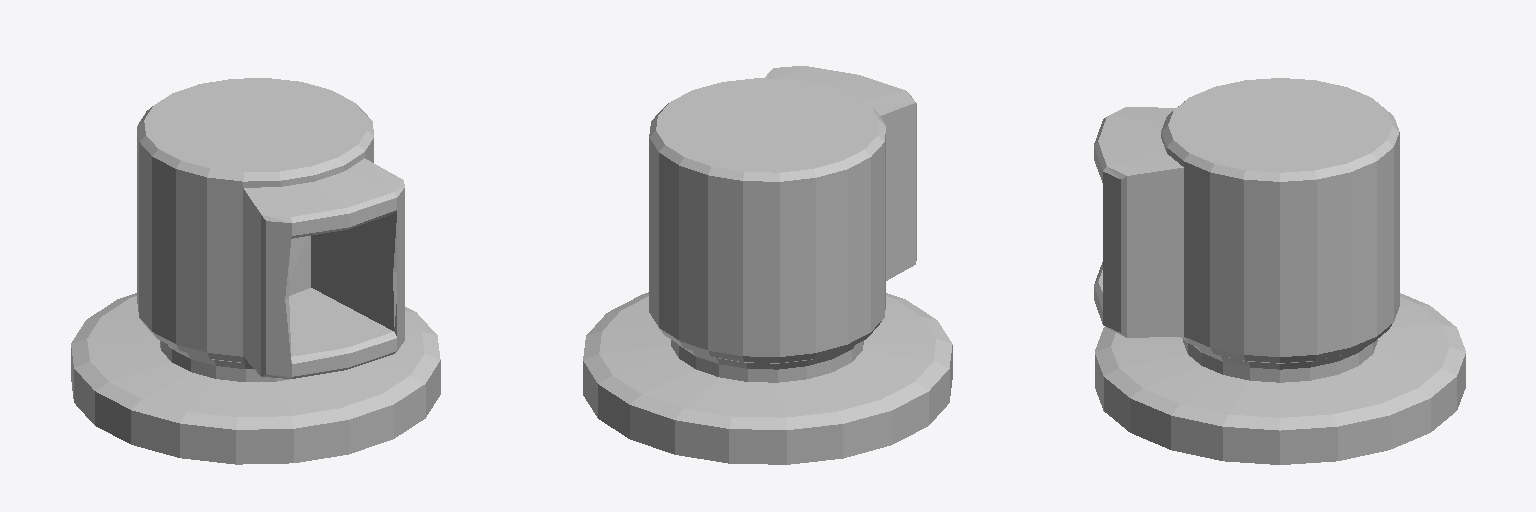
File: Turret.obj
The picture shows the model from 3 angles: view 1: azimuth 30°, elevation 25°; view 2: azimuth 150°, elevation 25°; view 3: azimuth 270°, elevation 25°; orthographic projection.
Parts seen in each view (by area): view 1: pCylinder1; view 2: pCylinder1; view 3: pCylinder1.
Part boxes in pixels (left/top/right/bottom): pCylinder1: left=71, top=78, right=440, bottom=464; pCylinder1: left=583, top=66, right=952, bottom=464; pCylinder1: left=1094, top=78, right=1465, bottom=464.
Size of the model in its own units: 2 by 1.55 by 2.